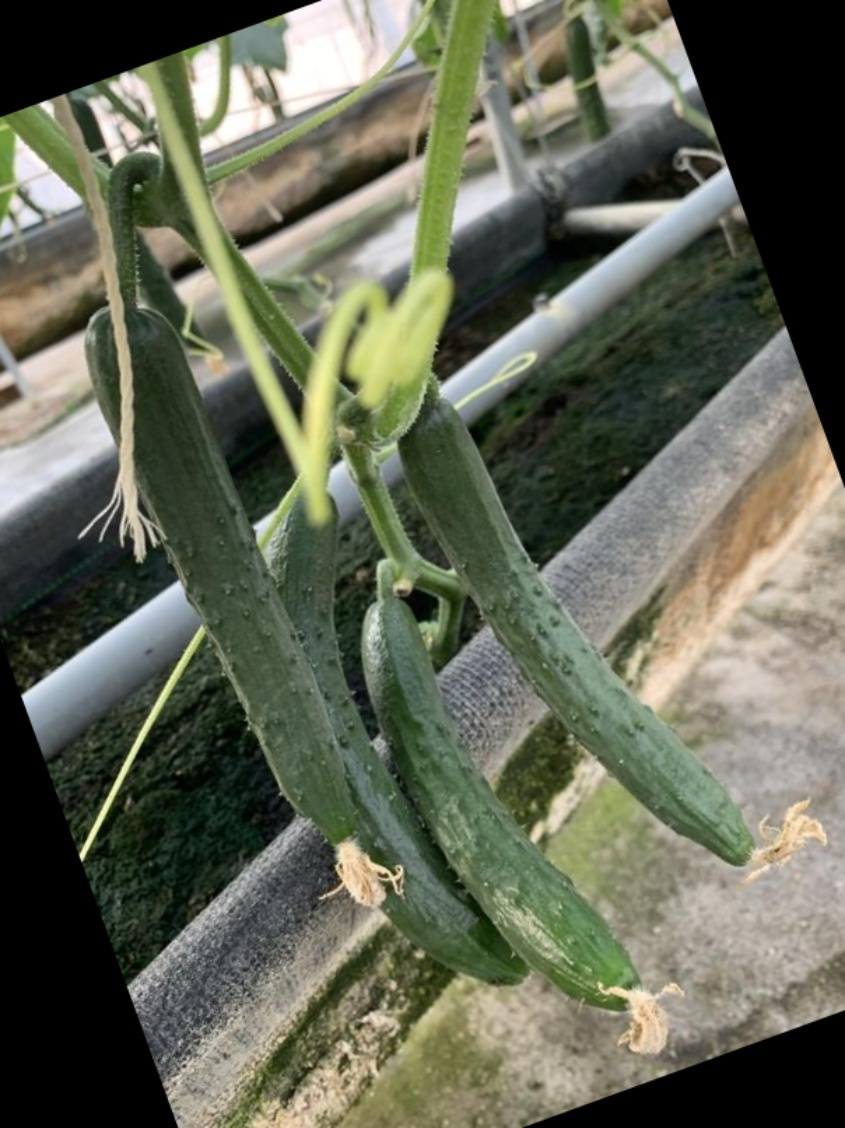mature: (344, 586, 656, 1021)
